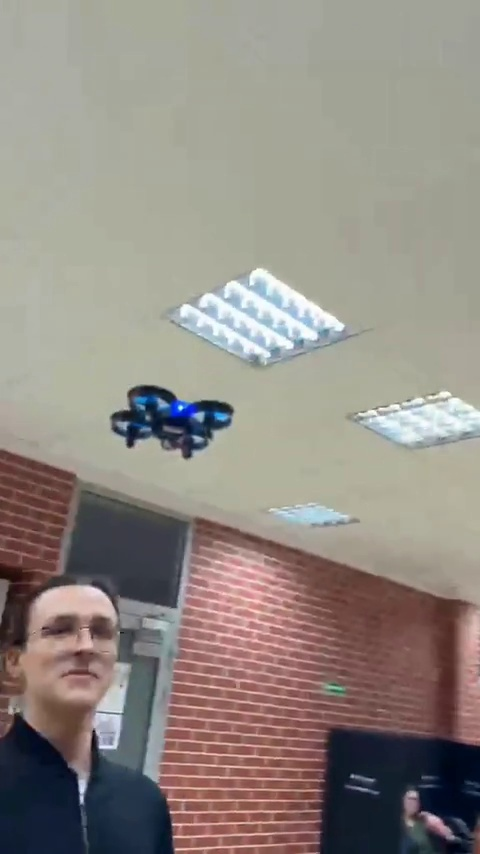drone: (114, 390, 238, 453)
no vest: (0, 577, 173, 850)
